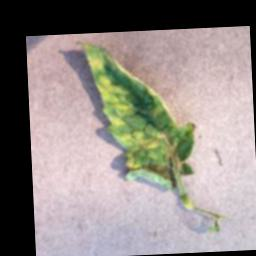Leaf_Mold: (83, 35, 196, 189)
